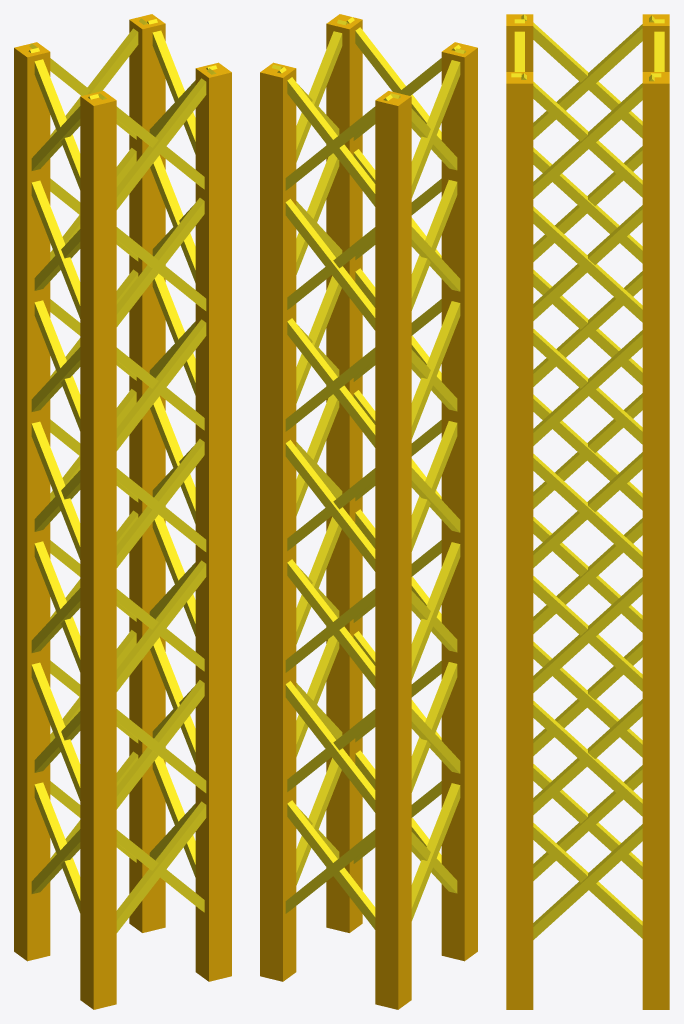
3 views of the same model, side by side, from view 1: azimuth 30°, elevation 25°; view 2: azimuth 150°, elevation 25°; view 3: azimuth 270°, elevation 25° (orthographic). The views are drawn at different scales.
Visible parts, largest first — view 1: Base_0, Base_1; view 2: Base_0, Base_1; view 3: Base_0, Base_1.
Boxes of the visible parts, x1,y1,x2,y2 form: Base_0: (14,14,231,1009); Base_1: (28,18,217,932); Base_0: (260,14,477,1009); Base_1: (272,17,465,929); Base_0: (506,14,669,1009); Base_1: (511,14,664,939).
Size of the model in its own units: 2.4 by 15.04 by 2.4.
